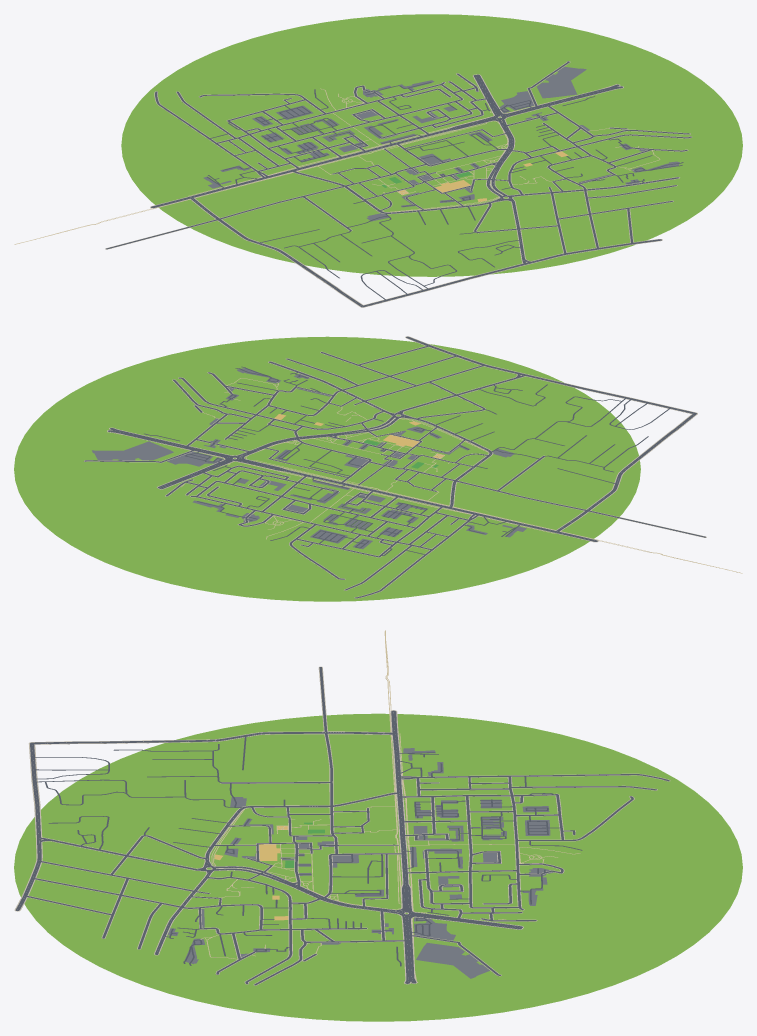
The model's file is ground.glb.
The picture shows the model from 3 angles, top to bottom: view 1: azimuth 30°, elevation 25°; view 2: azimuth 150°, elevation 25°; view 3: azimuth 270°, elevation 25°; orthographic projection. The views are drawn at different scales.
Parts seen in each view (by area): view 1: ground_outer; view 2: ground_outer; view 3: ground_outer.
Part boxes in pixels (left/top/right/bottom): ground_outer: left=14, top=14, right=742, bottom=307; ground_outer: left=14, top=336, right=742, bottom=601; ground_outer: left=14, top=630, right=742, bottom=1021.
Size of the model in its own units: 2440 by 0.147 by 1920.
